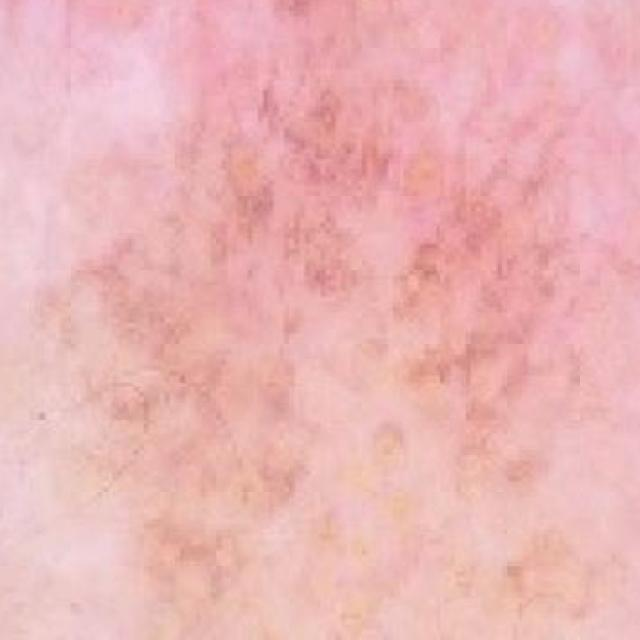BKL: (62, 3, 580, 640)
